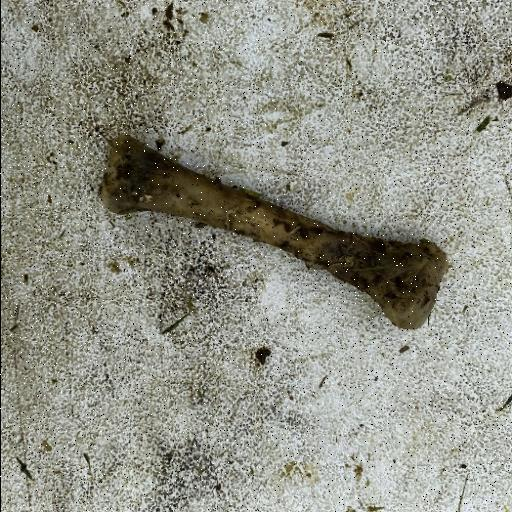Waste: (2, 1, 511, 509), (97, 132, 449, 332)
